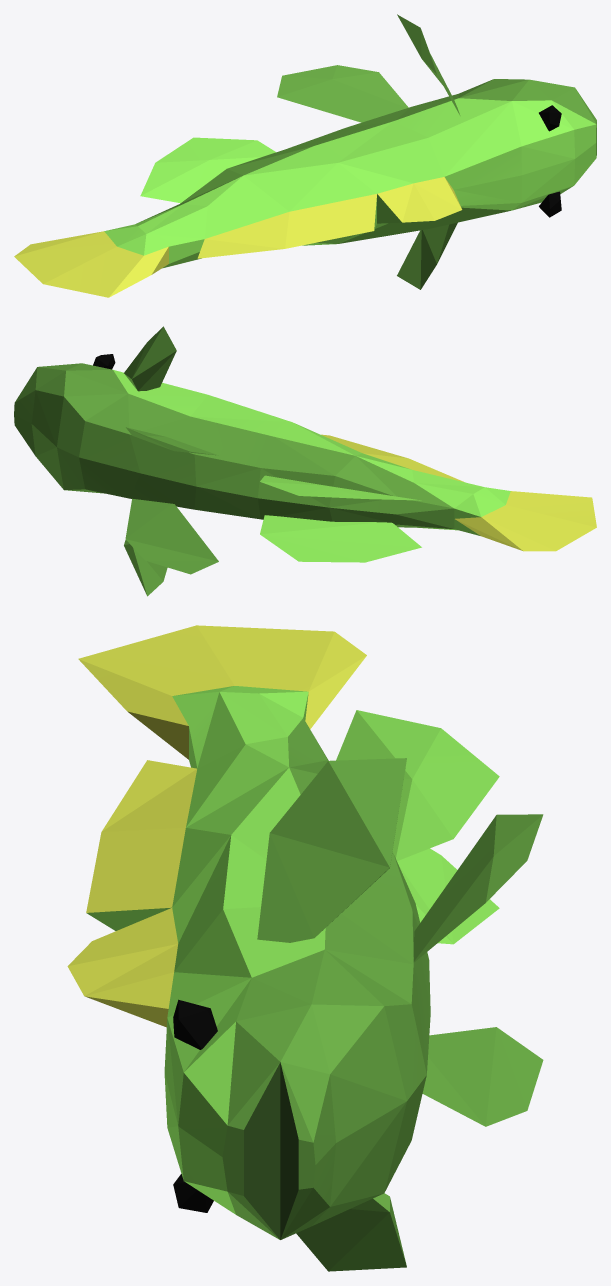
The model's file is GobyDrip.glb.
The picture shows the model from 3 angles, top to bottom: view 1: azimuth 30°, elevation 25°; view 2: azimuth 150°, elevation 25°; view 3: azimuth 270°, elevation 25°; orthographic projection. The views are drawn at different scales.
Visible parts, largest first — view 1: GobyDrip; view 2: GobyDrip; view 3: GobyDrip.
Part boxes in pixels (left/top/right/bottom): GobyDrip: left=14, top=14, right=596, bottom=297; GobyDrip: left=14, top=326, right=596, bottom=596; GobyDrip: left=67, top=625, right=543, bottom=1271.
Size of the model in its own units: 0.1515 by 0.0668 by 0.0564.
1 material, 1 textured.
